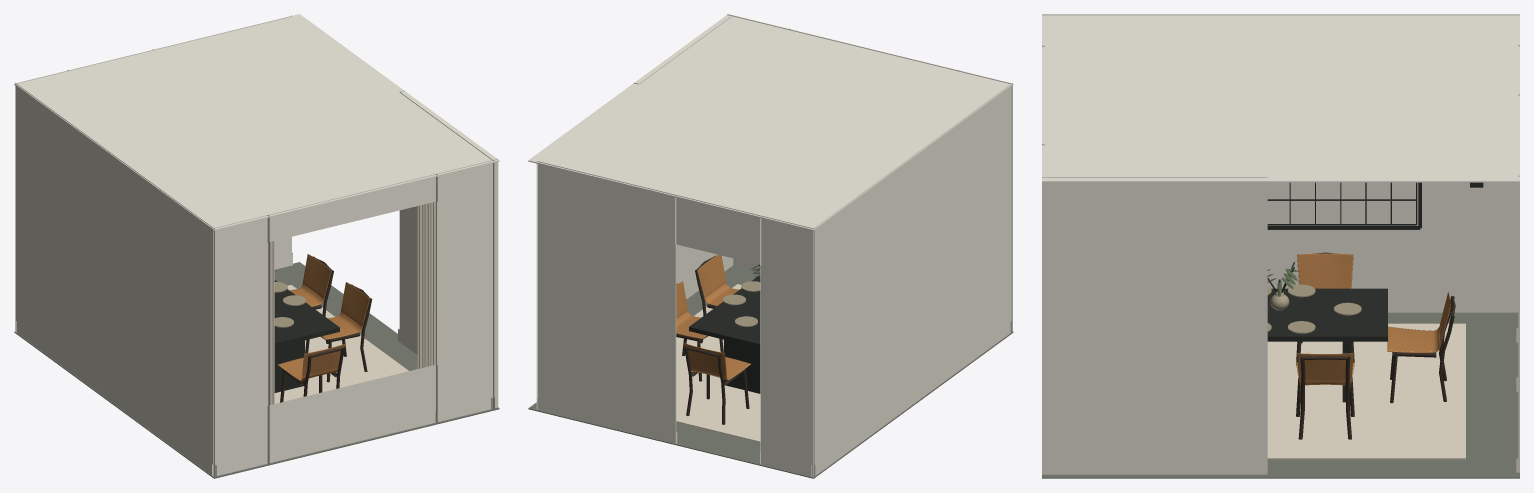
The model's file is dining-1.glb.
3 views of the same model, side by side, from view 1: azimuth 30°, elevation 25°; view 2: azimuth 150°, elevation 25°; view 3: azimuth 270°, elevation 25° (orthographic). The views are drawn at different scales.
Visible parts, largest first — view 1: DESIGN | dining removable wall finish, DESIGN | dining ceiling finish, DESIGN | dining floor finish, DESIGN | Dining ground, DESIGN | Dining linen edge.001, DESIGN | Dining table top, DESIGN | Required Isadora dining chair 3, DESIGN | Required Isadora dining chair 5, DESIGN | Required Isadora dining chair 4, DESIGN | Dining linen edge, DESIGN | Dining table trestle; view 2: DESIGN | dining removable wall finish, DESIGN | dining ceiling finish, DESIGN | Dining ground, DESIGN | dining floor finish, DESIGN | Dining table top, DESIGN | Required Isadora dining chair 6, DESIGN | Required Isadora dining chair 3, DESIGN | Dining table trestle.001, DESIGN | Required Isadora dining chair 4; view 3: DESIGN | dining removable wall finish, DESIGN | dining ceiling finish, DESIGN | Dining ground, DESIGN | dining floor finish, DESIGN | Dining table top, DESIGN | Required Isadora dining chair 6, DESIGN | Required Isadora dining chair 4, DESIGN | Required Isadora dining chair 2, DESIGN | Kumiko | Dining long craft screen.
Boxes of the visible parts, bbox=[...] form: DESIGN | dining removable wall finish: bbox=[15, 15, 498, 477]; DESIGN | dining ceiling finish: bbox=[14, 14, 499, 230]; DESIGN | dining floor finish: bbox=[14, 262, 499, 478]; DESIGN | Dining ground: bbox=[274, 285, 408, 403]; DESIGN | Dining linen edge.001: bbox=[417, 201, 435, 368]; DESIGN | Dining table top: bbox=[274, 280, 339, 347]; DESIGN | Required Isadora dining chair 3: bbox=[305, 282, 372, 382]; DESIGN | Required Isadora dining chair 5: bbox=[278, 344, 344, 402]; DESIGN | Required Isadora dining chair 4: bbox=[290, 254, 333, 343]; DESIGN | Dining linen edge: bbox=[268, 241, 274, 405]; DESIGN | Dining table trestle: bbox=[274, 340, 304, 392]; DESIGN | dining removable wall finish: bbox=[536, 14, 1012, 477]; DESIGN | dining ceiling finish: bbox=[528, 14, 1013, 230]; DESIGN | Dining ground: bbox=[676, 284, 760, 442]; DESIGN | dining floor finish: bbox=[528, 265, 1013, 478]; DESIGN | Dining table top: bbox=[689, 277, 760, 348]; DESIGN | Required Isadora dining chair 6: bbox=[684, 343, 750, 424]; DESIGN | Required Isadora dining chair 3: bbox=[695, 254, 739, 343]; DESIGN | Dining table trestle.001: bbox=[724, 339, 760, 393]; DESIGN | Required Isadora dining chair 4: bbox=[676, 281, 723, 381]; DESIGN | dining removable wall finish: bbox=[1042, 14, 1519, 474]; DESIGN | dining ceiling finish: bbox=[1042, 15, 1519, 182]; DESIGN | Dining ground: bbox=[1267, 323, 1465, 459]; DESIGN | dining floor finish: bbox=[1042, 312, 1519, 478]; DESIGN | Dining table top: bbox=[1267, 288, 1387, 341]; DESIGN | Required Isadora dining chair 6: bbox=[1387, 292, 1455, 403]; DESIGN | Required Isadora dining chair 4: bbox=[1296, 353, 1354, 439]; DESIGN | Required Isadora dining chair 2: bbox=[1296, 252, 1354, 365]; DESIGN | Kumiko | Dining long craft screen: bbox=[1267, 182, 1421, 229].
Size of the model in its own units: 3.28 by 2.74 by 3.98.
